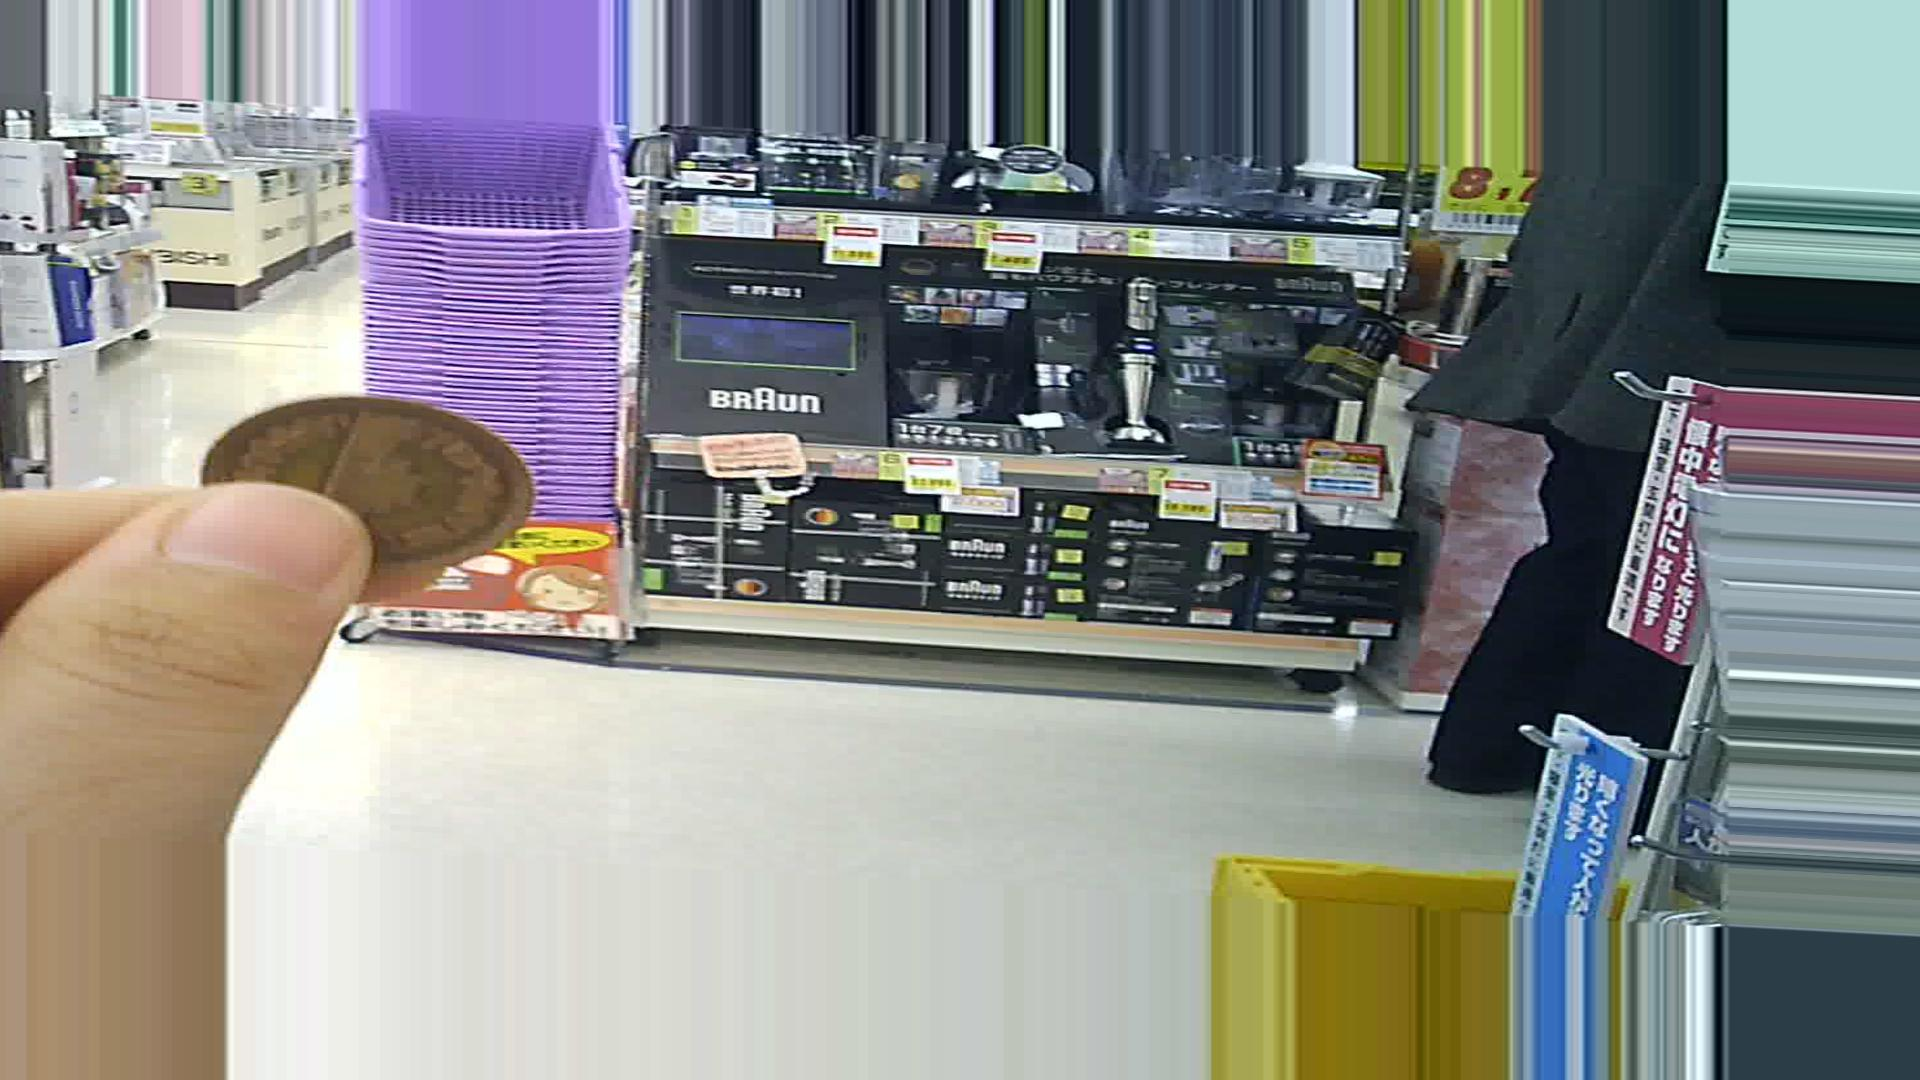10 Yen: (177, 380, 547, 582)
